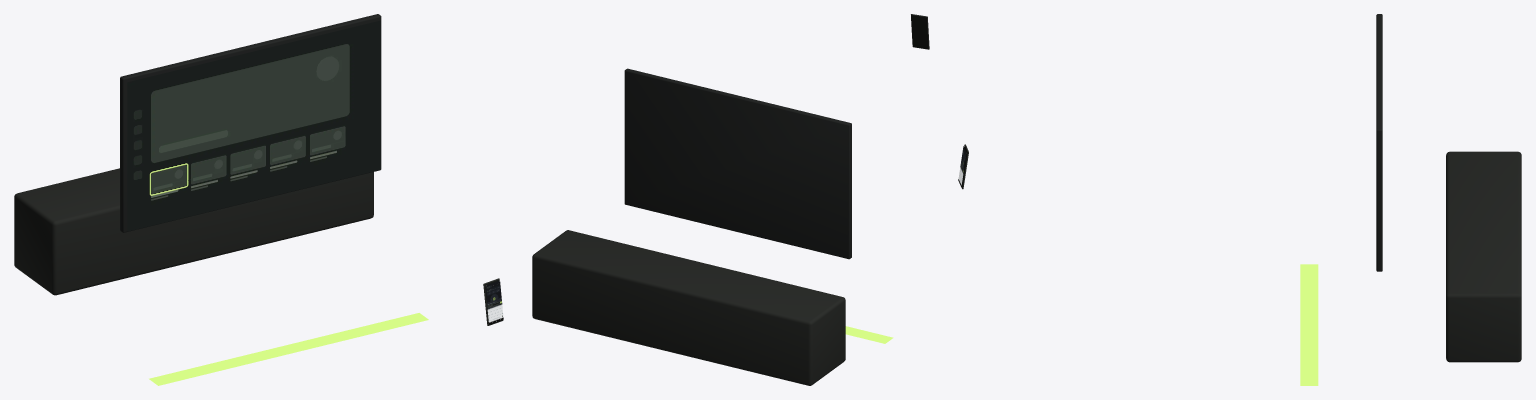
Rendered from pin-tv-phone.glb.
3 renders of one model, left to right at view 1: azimuth 30°, elevation 25°; view 2: azimuth 150°, elevation 25°; view 3: azimuth 270°, elevation 25°, orthographic. The views are drawn at different scales.
Parts seen in each view (by area): view 1: TVScreen, PinConsole, BiasStrip, PhoneScreen; view 2: PinConsole, PinPhoneGlass, BiasStrip; view 3: PinConsole, BiasStrip.
Boxes of the visible parts, x1,y1,x2,y2 form: TVScreen: (127, 20, 381, 231); PinConsole: (14, 14, 381, 295); BiasStrip: (149, 313, 428, 385); PhoneScreen: (485, 280, 503, 324); PinConsole: (532, 68, 851, 385); PinPhoneGlass: (911, 15, 928, 49); BiasStrip: (845, 326, 893, 343); PinConsole: (1376, 14, 1521, 362); BiasStrip: (1300, 264, 1318, 385).
Size of the model in its own units: 1.9 by 1.55 by 3.13.
Materials: 6 (6 with a texture image).
